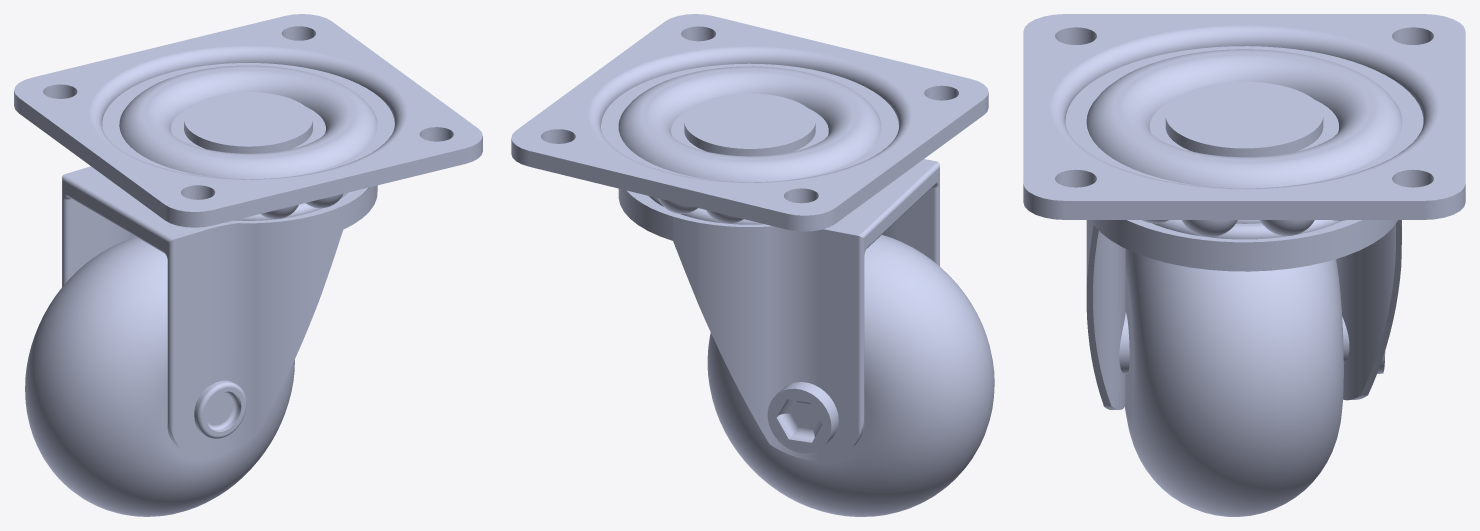
Rendered from montagem_rodizio.dae.
3 renders of one model, left to right at view 1: azimuth 30°, elevation 25°; view 2: azimuth 150°, elevation 25°; view 3: azimuth 270°, elevation 25°, orthographic. The views are drawn at different scales.
Visible parts, largest first — view 1: node_e84d7123_6dff_49eb_9fe7_159236394743_mesh0, node_4069a62c_01af_4695_b69d_2518e41c02ba_mesh0, node_e92916c9_f740_4fec_bf70_03a1abd1e495_mesh0, node_76cf26bb_285c_4324_a77f_b4142743b811_mesh0, node_414b67c5_3407_4e69_bb21_ea682bf474b9_mesh0; view 2: node_e84d7123_6dff_49eb_9fe7_159236394743_mesh0, node_4069a62c_01af_4695_b69d_2518e41c02ba_mesh0, node_e92916c9_f740_4fec_bf70_03a1abd1e495_mesh0, node_76cf26bb_285c_4324_a77f_b4142743b811_mesh0, node_414b67c5_3407_4e69_bb21_ea682bf474b9_mesh0; view 3: node_e84d7123_6dff_49eb_9fe7_159236394743_mesh0, node_e92916c9_f740_4fec_bf70_03a1abd1e495_mesh0, node_4069a62c_01af_4695_b69d_2518e41c02ba_mesh0, node_76cf26bb_285c_4324_a77f_b4142743b811_mesh0, node_414b67c5_3407_4e69_bb21_ea682bf474b9_mesh0, node_fc5f8fce_fa69_48b7_ad10_03c3d28c53b7_mesh0, node_25f02ed7_e860_42d8_a28c_6dfbe4852bdb_mesh0.
Part boxes in pixels (box(x1,y1,x2,y2)): node_e84d7123_6dff_49eb_9fe7_159236394743_mesh0: box(14, 14, 482, 227); node_4069a62c_01af_4695_b69d_2518e41c02ba_mesh0: box(62, 166, 377, 457); node_e92916c9_f740_4fec_bf70_03a1abd1e495_mesh0: box(25, 237, 294, 516); node_76cf26bb_285c_4324_a77f_b4142743b811_mesh0: box(184, 92, 312, 153); node_414b67c5_3407_4e69_bb21_ea682bf474b9_mesh0: box(194, 380, 246, 438); node_e84d7123_6dff_49eb_9fe7_159236394743_mesh0: box(511, 14, 988, 231); node_4069a62c_01af_4695_b69d_2518e41c02ba_mesh0: box(618, 159, 939, 461); node_e92916c9_f740_4fec_bf70_03a1abd1e495_mesh0: box(707, 235, 994, 516); node_76cf26bb_285c_4324_a77f_b4142743b811_mesh0: box(684, 93, 815, 156); node_414b67c5_3407_4e69_bb21_ea682bf474b9_mesh0: box(767, 382, 838, 453); node_e84d7123_6dff_49eb_9fe7_159236394743_mesh0: box(1023, 14, 1465, 219); node_e92916c9_f740_4fec_bf70_03a1abd1e495_mesh0: box(1125, 249, 1343, 516); node_4069a62c_01af_4695_b69d_2518e41c02ba_mesh0: box(1086, 220, 1401, 410); node_76cf26bb_285c_4324_a77f_b4142743b811_mesh0: box(1165, 81, 1323, 156); node_414b67c5_3407_4e69_bb21_ea682bf474b9_mesh0: box(1119, 312, 1385, 373); node_fc5f8fce_fa69_48b7_ad10_03c3d28c53b7_mesh0: box(1182, 220, 1237, 237); node_25f02ed7_e860_42d8_a28c_6dfbe4852bdb_mesh0: box(1260, 220, 1314, 235).
Size of the model in its own units: 0.0506 by 0.047 by 0.042.
